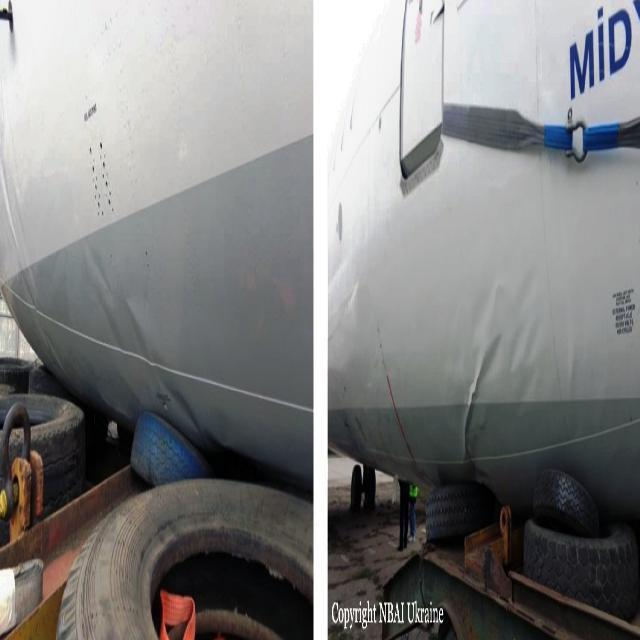dent: (86, 249, 200, 435), (463, 268, 552, 488)
